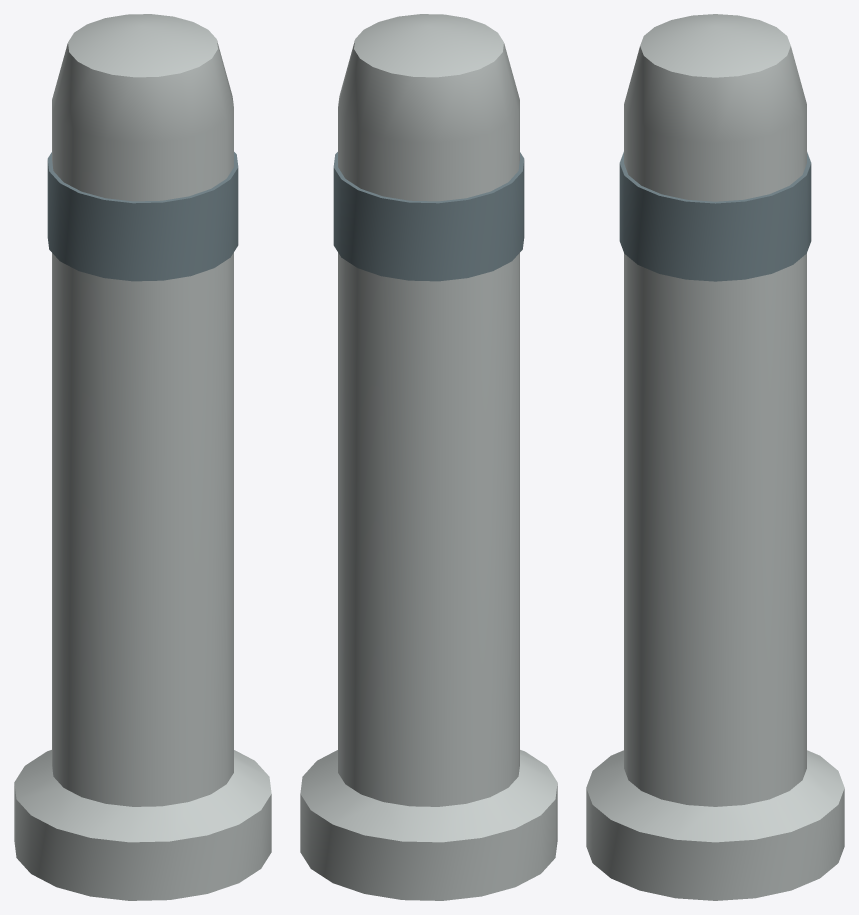
File: bollard.glb
3 renders of one model, left to right at view 1: azimuth 30°, elevation 25°; view 2: azimuth 150°, elevation 25°; view 3: azimuth 270°, elevation 25°, orthographic.
Visible parts, largest first — view 1: bollard, reflective_band; view 2: bollard, reflective_band; view 3: bollard, reflective_band.
Boxes of the visible parts, <box> form: bollard: <box>14,14,271,900</box>; reflective_band: <box>47,152,238,281</box>; bollard: <box>300,14,557,900</box>; reflective_band: <box>333,152,524,281</box>; bollard: <box>586,14,844,900</box>; reflective_band: <box>619,152,811,281</box>.
Bounding box in the file's own units: 0.24 × 0.84 × 0.24.
